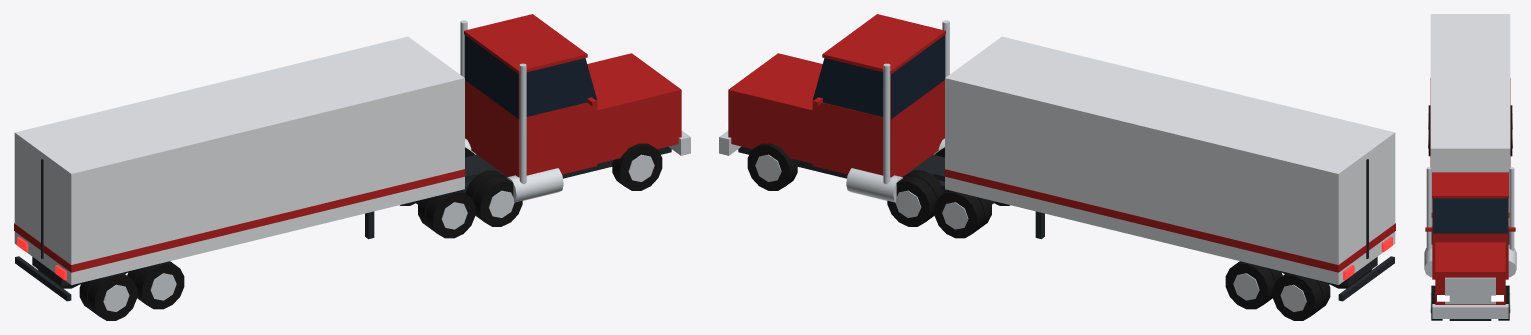
File: long-truck.glb
The picture shows the model from 3 angles, left to right: view 1: azimuth 30°, elevation 25°; view 2: azimuth 150°, elevation 25°; view 3: azimuth 270°, elevation 25°; orthographic projection. The views are drawn at different scales.
Parts seen in each view (by area): view 1: TrailerBox, Wheel (×5), Cab, Hood, CabGlass, CabRoof, TrailerStripe, Semi_Truck, TractorChassis, RearBar; view 2: TrailerBox, Wheel (×5), Cab, Hood, CabGlass, CabRoof, TrailerStripe, Semi_Truck, TractorChassis, RearBar; view 3: TrailerBox, Hood, CabGlass, CabRoof, Semi_Truck, Grille, Cab, Bumper, Wheel (×4), TrailerStripe, Headlight (×2), TractorChassis.
Part boxes in pixels (x1,y1,x2,y2): TrailerBox: (14,36,464,284); Wheel (×5): (87,143,662,320); Cab: (465,80,597,177); Hood: (587,53,681,163); CabGlass: (464,35,596,119); CabRoof: (464,14,587,73); TrailerStripe: (14,169,465,272); Semi_Truck: (460,20,596,202); TractorChassis: (414,146,671,204); RearBar: (15,256,71,301); TrailerBox: (945,36,1395,284); Wheel (×5): (747,143,1322,320); Cab: (812,80,944,177); Hood: (728,53,822,163); CabGlass: (813,35,945,119); CabRoof: (822,14,945,73); TrailerStripe: (944,169,1395,272); Semi_Truck: (813,20,949,202); TractorChassis: (738,146,995,204); RearBar: (1338,256,1394,301); TrailerBox: (1430,14,1510,226); Hood: (1435,242,1505,304); CabGlass: (1432,198,1508,233); CabRoof: (1432,172,1508,198); Semi_Truck: (1424,167,1516,277); Grille: (1445,277,1495,304); Cab: (1432,208,1508,279); Bumper: (1432,304,1508,318); Wheel (×4): (1428,121,1512,320); TrailerStripe: (1430,78,1510,217); Headlight (×2): (1437,295,1503,301); TractorChassis: (1449,319,1491,320).
Size of the model in its own units: 15.83 by 3.8 by 2.9.
